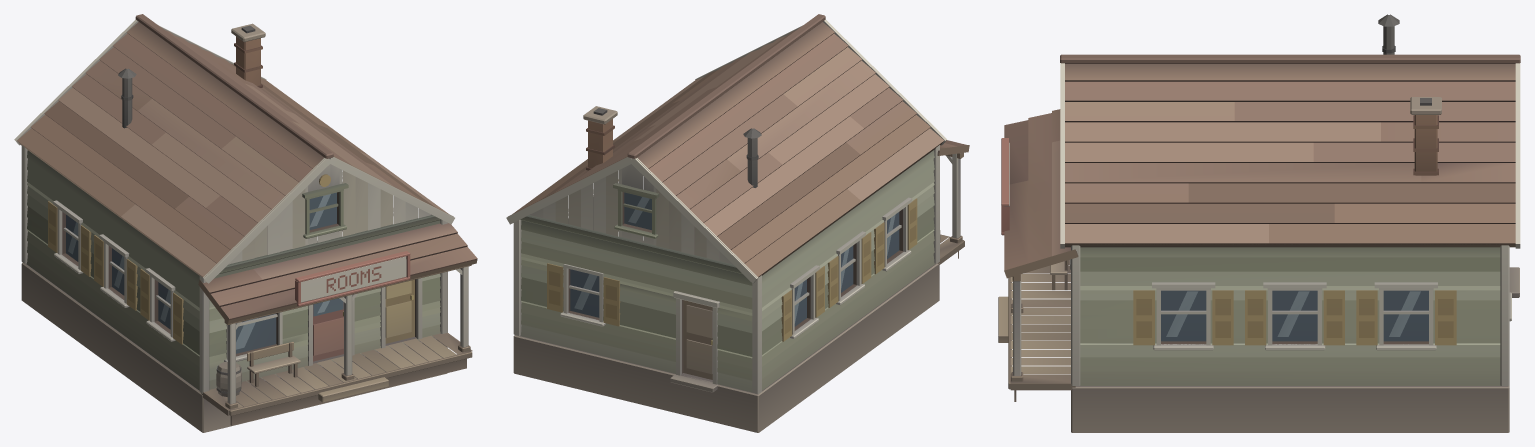
File: house_6.glb
The picture shows the model from 3 angles, left to right: view 1: azimuth 30°, elevation 25°; view 2: azimuth 150°, elevation 25°; view 3: azimuth 270°, elevation 25°; orthographic projection. The views are drawn at different scales.
Bounding box in the file's own units: 7.52 × 7.3 × 11.26.
